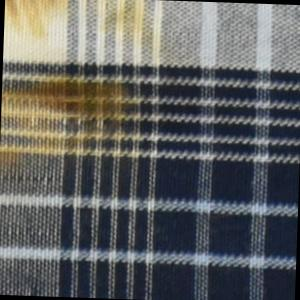Oil Stain: (1, 75, 144, 179), (4, 1, 167, 60)
